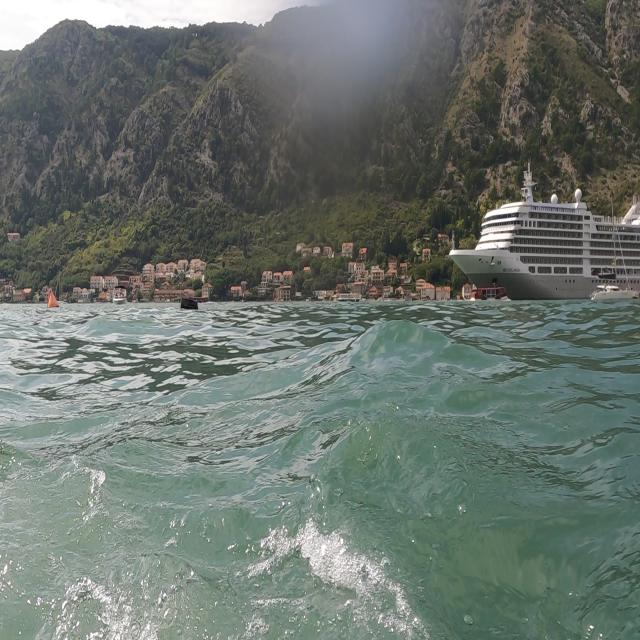boat: (447, 156, 638, 302)
buoy: (175, 291, 205, 317), (42, 286, 63, 314)
